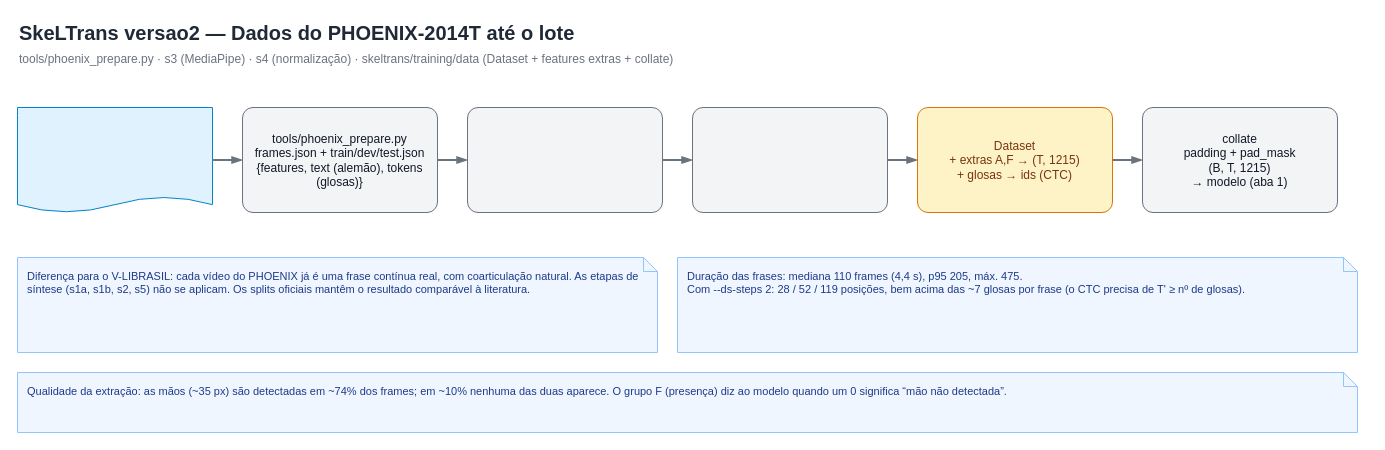
Image size: 1385x450. Some labels were removed from this diagram. The centre of each missing label's shape, as x and y in pixels:
"PHOENIX-2014-T frames PNG 210×260 · 25 fps splits oficiais 7.096 / 519 / 642" goes at point 114,159.
"s3 · MediaPipe Holistic 115 pontos × (X, Y, Z) ausente = [0, 0, 0]" goes at point 564,159.
"s4 · normalização + dinâmica (T, 115, 9)" goes at point 790,159.
